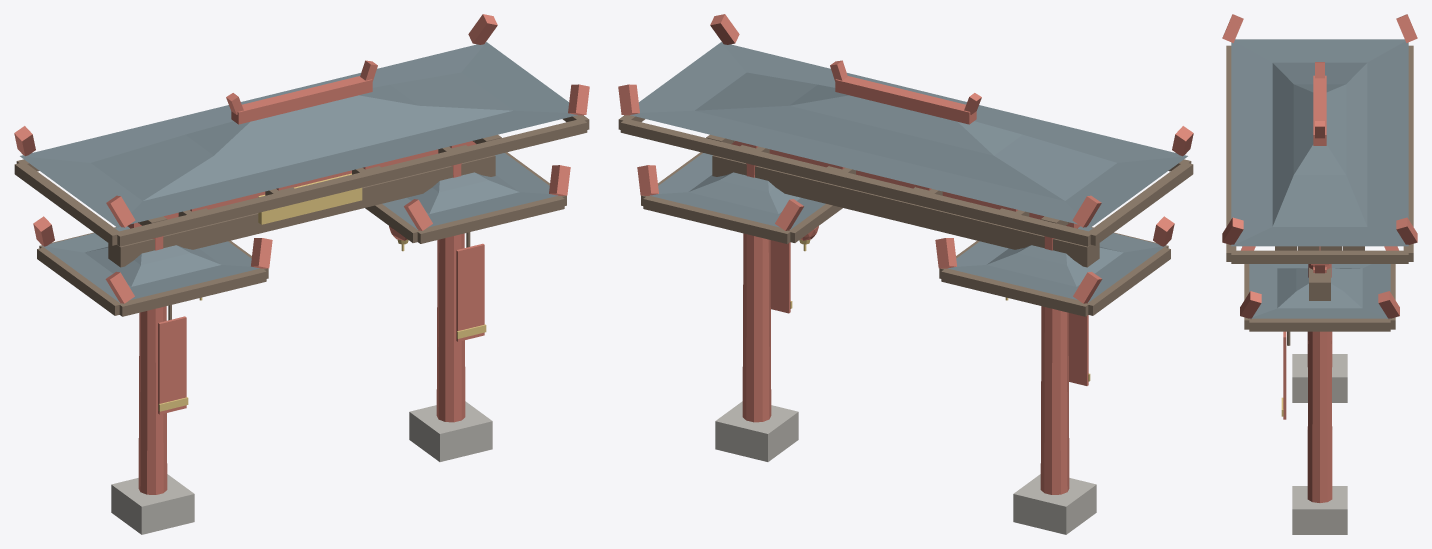
File: SM_Building_Paifang.fbx
3 renders of one model, left to right at view 1: azimuth 30°, elevation 25°; view 2: azimuth 150°, elevation 25°; view 3: azimuth 270°, elevation 25°, orthographic. The views are drawn at different scales.
Visible parts, largest first — view 1: Paifang; view 2: Paifang; view 3: Paifang.
Boxes of the visible parts, x1,y1,x2,y2 form: Paifang: (14, 14, 589, 534); Paifang: (618, 14, 1193, 534); Paifang: (1222, 14, 1417, 534).
Size of the model in its own units: 4.98 by 4 by 1.94.
